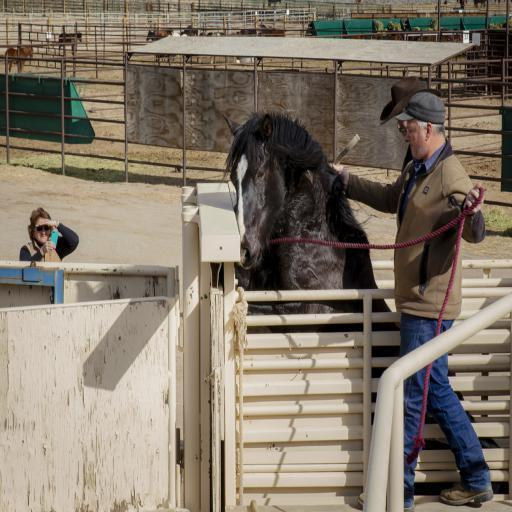horse: (217, 112, 509, 496)
